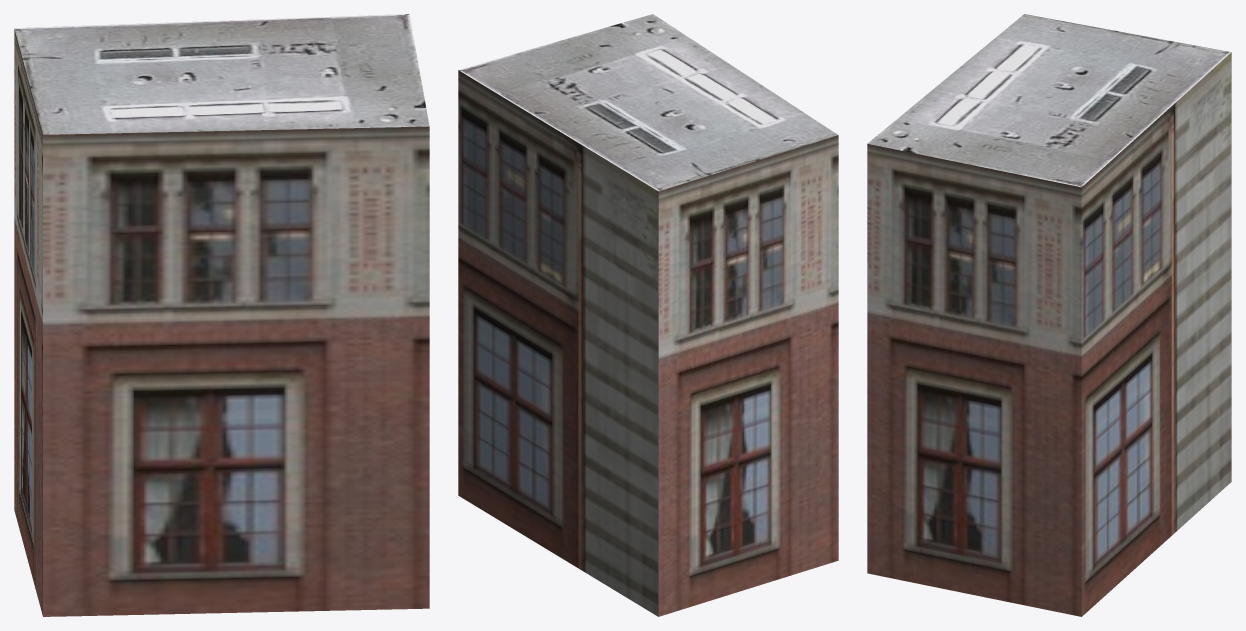
The model's file is EduTex__16.fbx.
The picture shows the model from 3 angles, left to right: view 1: azimuth 30°, elevation 25°; view 2: azimuth 150°, elevation 25°; view 3: azimuth 270°, elevation 25°; orthographic projection. The views are drawn at different scales.
Visible parts, largest first — view 1: CityEngineMaterial_17_m, CityEngineMaterial_m; view 2: CityEngineMaterial_17_m, CityEngineMaterial_m; view 3: CityEngineMaterial_17_m, CityEngineMaterial_m.
Part boxes in pixels (x1,y1,x2,y2): CityEngineMaterial_17_m: [14, 29, 429, 616]; CityEngineMaterial_m: [14, 14, 429, 134]; CityEngineMaterial_17_m: [458, 70, 838, 616]; CityEngineMaterial_m: [458, 14, 838, 191]; CityEngineMaterial_17_m: [867, 52, 1231, 616]; CityEngineMaterial_m: [867, 14, 1231, 187].
Bounding box in the file's own units: 5.19 × 6 × 4.61.
2 materials, 2 textured.
